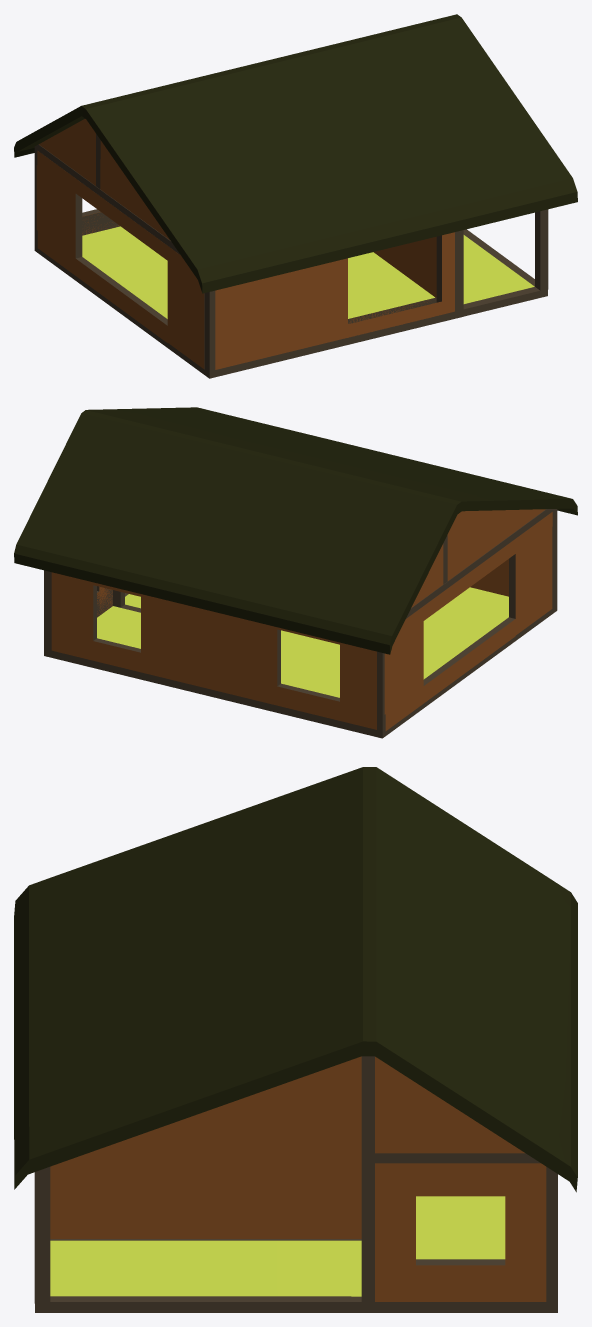
The model's file is ChaletUPGRADE.fbx.
3 views of the same model, one above another, from view 1: azimuth 30°, elevation 25°; view 2: azimuth 150°, elevation 25°; view 3: azimuth 270°, elevation 25° (orthographic). The views are drawn at different scales.
Visible parts, largest first — view 1: Chalet_Cube, rectangle_Cube.002; view 2: Chalet_Cube; view 3: Chalet_Cube, rectangle_Cube.002.
Part boxes in pixels (<box>): Chalet_Cube: <box>14,14,577,378</box>; rectangle_Cube.002: <box>373,236,436,297</box>; Chalet_Cube: <box>14,407,577,738</box>; Chalet_Cube: <box>14,767,577,1312</box>; rectangle_Cube.002: <box>50,1163,361,1238</box>.
Size of the model in its own units: 1756 by 860 by 1524.
